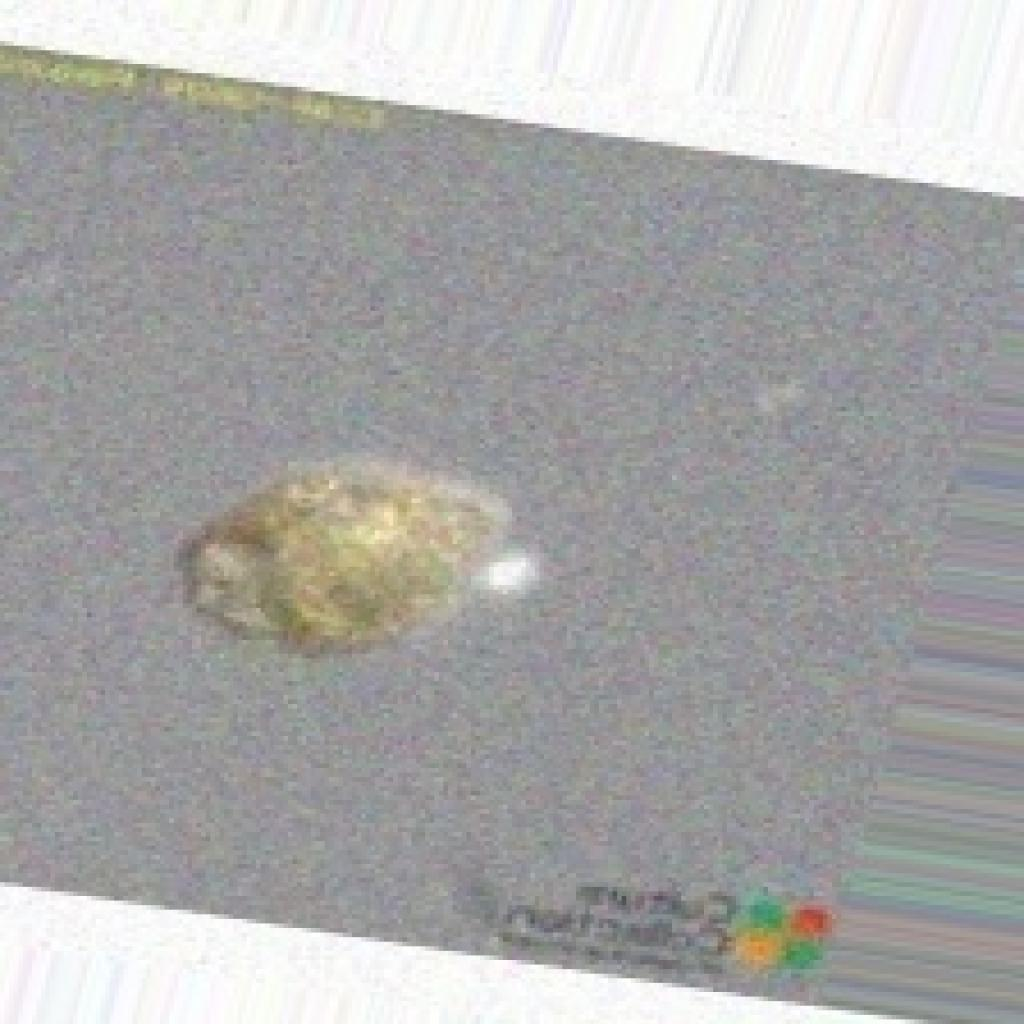Microalgae: (174, 453, 516, 658)
